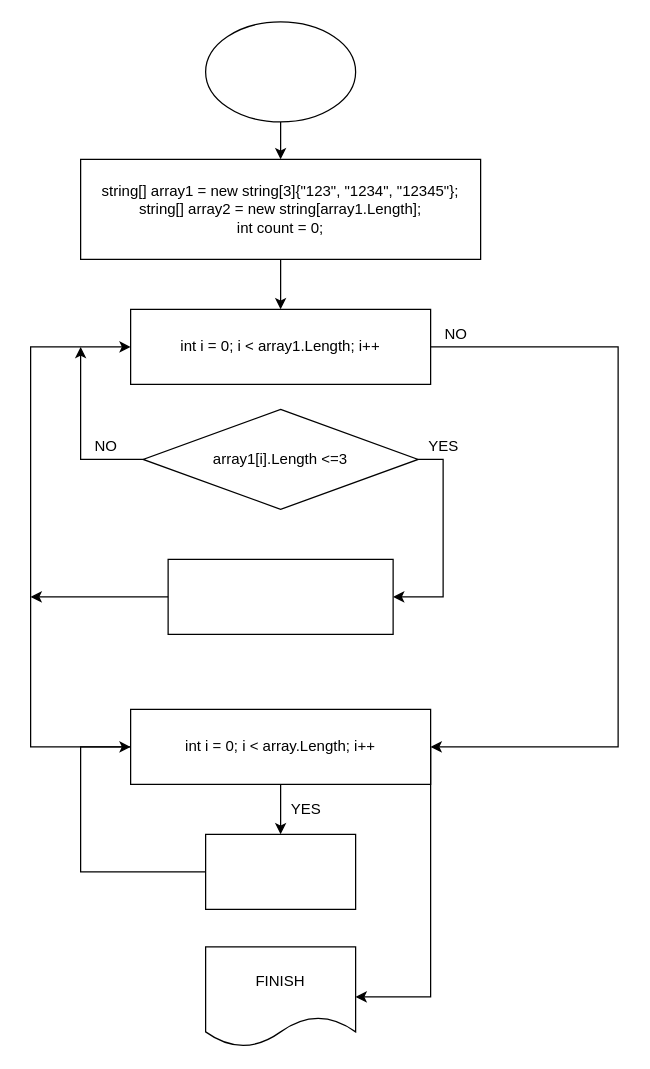
Image size: 650x1069. Some labels were removed from this diagram. Each missing label, with the centre of its shape:
array2[count] = array1[i] count++;: (x=280, y=596)
START: (x=280, y=71)
Write($"array[i]}");: (x=280, y=871)
